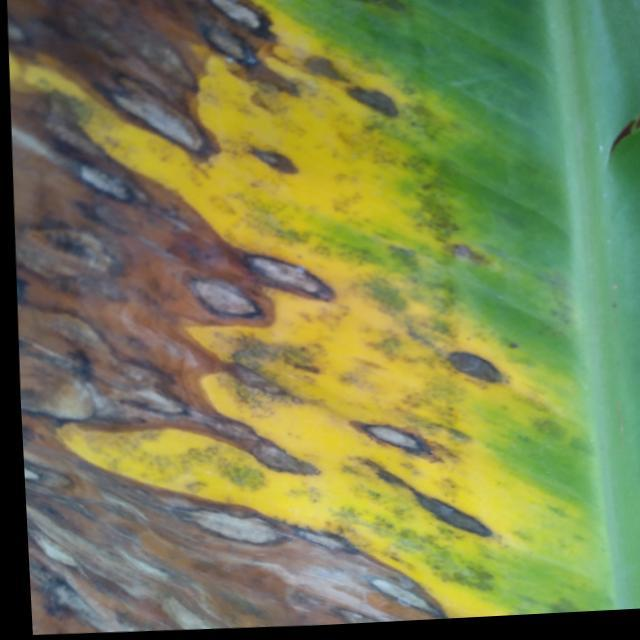Early_rust: (0, 0, 576, 622)
